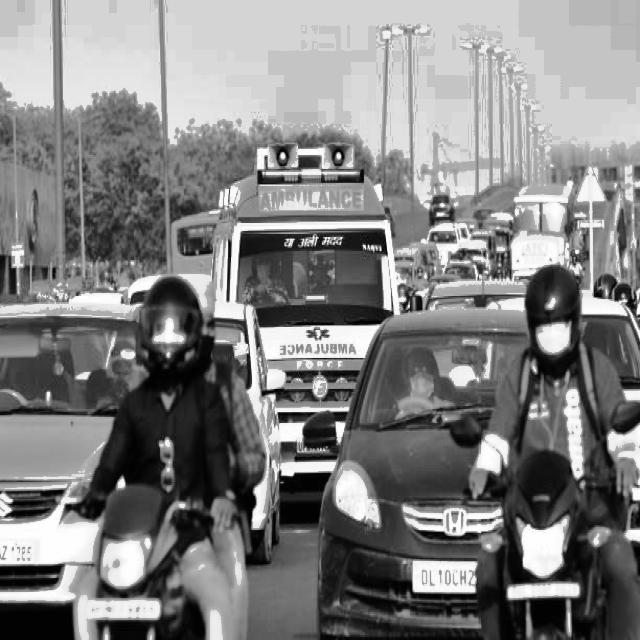Ambulance: (234, 189, 373, 228), (273, 322, 365, 368), (256, 158, 368, 192)
